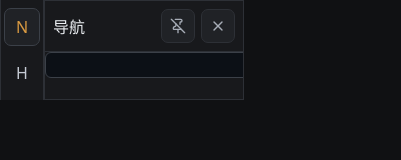
it: resizes the left fixed panel with pointer and keyboard, and resets on double click
Press ArrowRight in the element named "工作面板宽度", box [237,1,243,99]
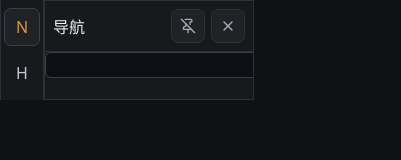
expect the element named "工作面板宽度" has attribute aria-valuenow="210": met
Press the mouse on the element named "工作面板宽度": (250, 50) [247,1,253,99]
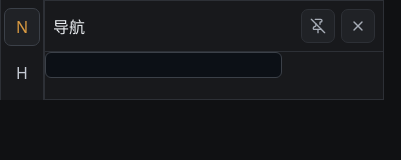
expect the element named "工作面板宽度" has attribute aria-valuenow="340": met
Double-click the element named "工作面板宽度": (380, 50) [377,1,383,99]
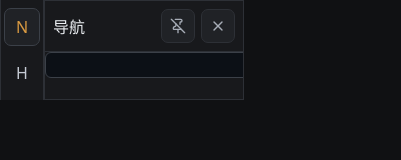
expect the element named "工作面板宽度" has attribute aria-valuenow="200": met
Press ArrowLeft in the element named "工作面板宽度", box [237,1,243,99]
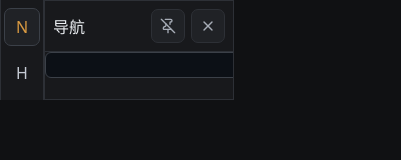
expect the element named "工作面板宽度" has attribute aria-valuenow="190": met
Press Home in the element named "工作面板宽度", box [227,1,233,99]
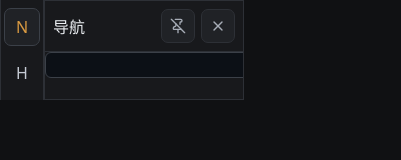
expect the element named "工作面板宽度" has attribute aria-valuenow="200": met, box [237,1,243,99]
